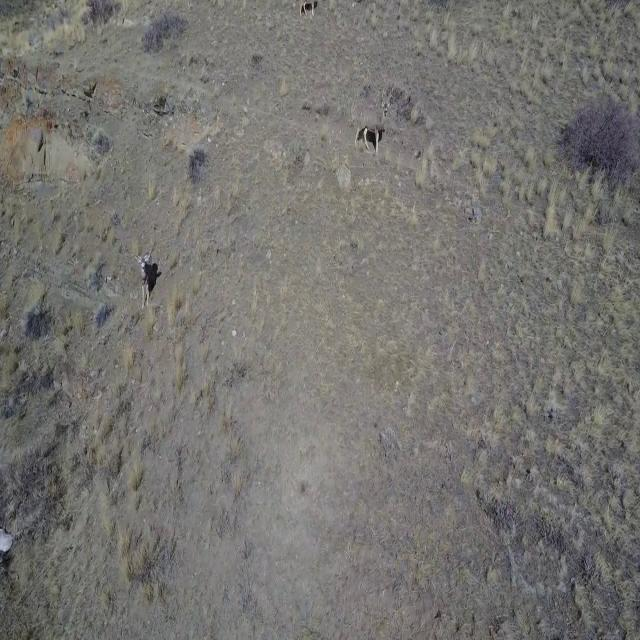Deer: (352, 91, 392, 157), (136, 252, 160, 310), (294, 1, 320, 20)
